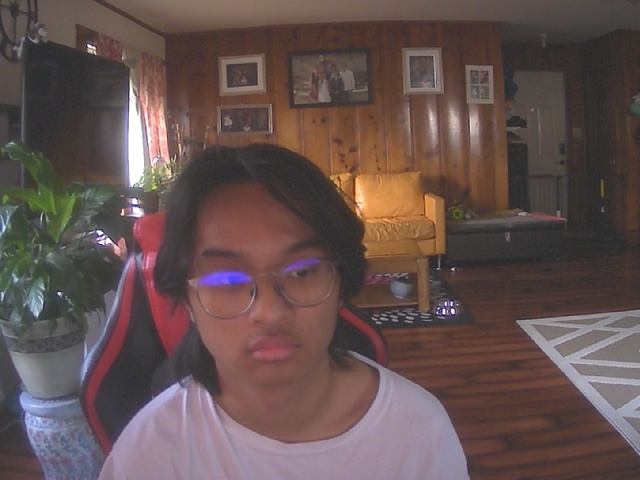neutral: (172, 146, 359, 391)
